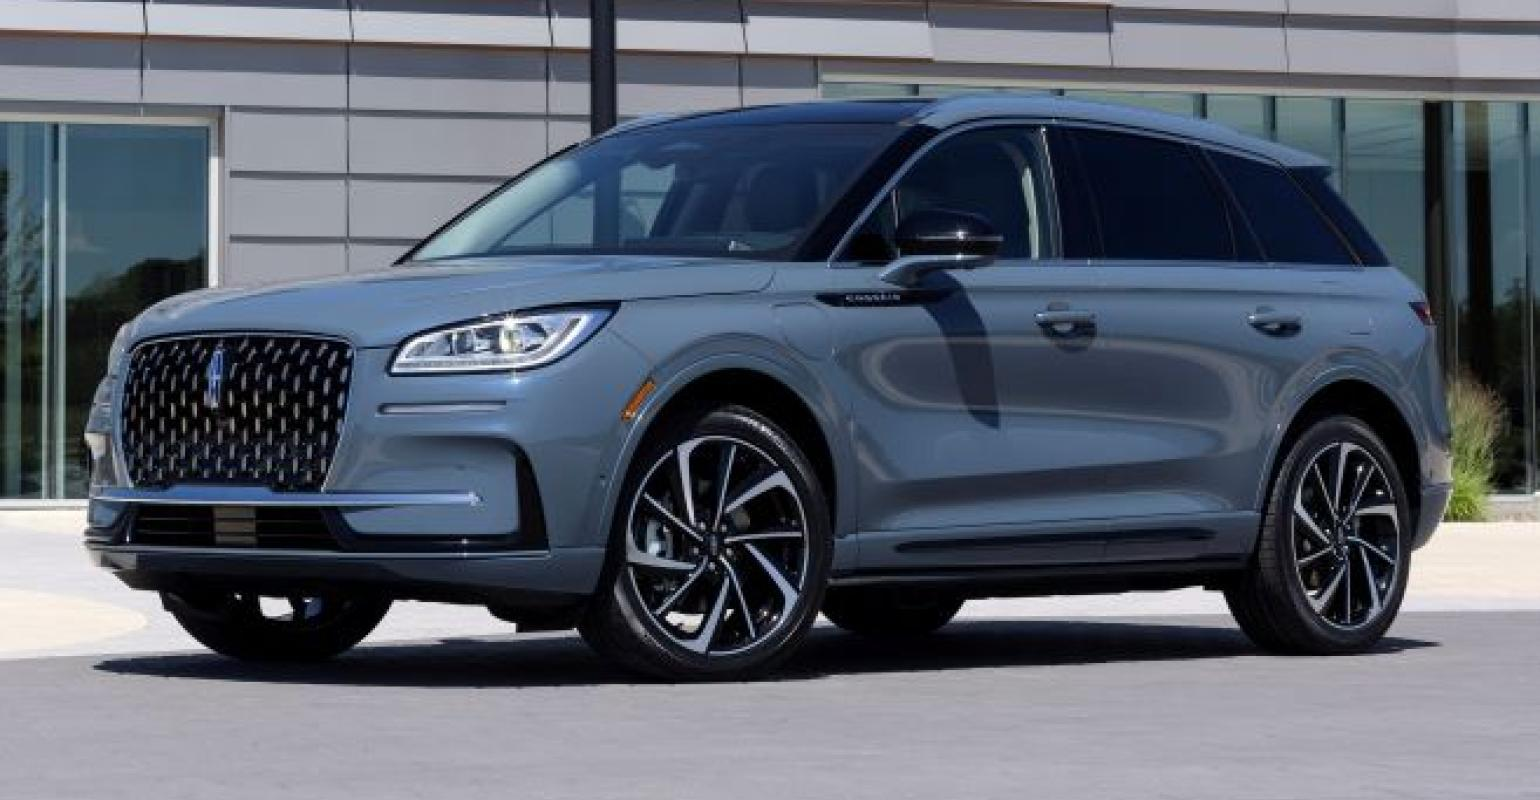lincoln: (201, 342, 232, 420)
